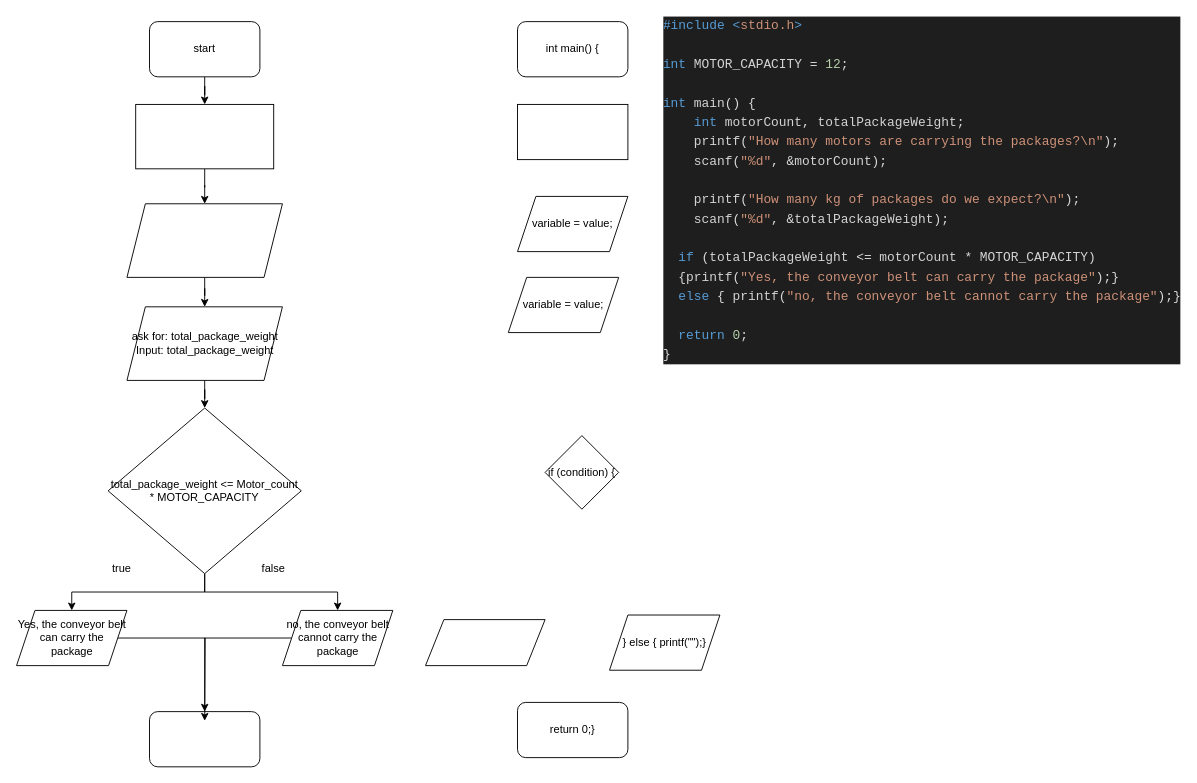
This 1197x783 diagram has some shape labels left out. Each missing label, with the centre of its shape:
ask for: Motor_count Inpuit: Motor_count: (204,240)
end: (204,739)
MOTOR_CAPACITY = 12 kg: (204,136)
printf("");: (485,642)
printf("");scanf("%d", &variable);: (572,132)
